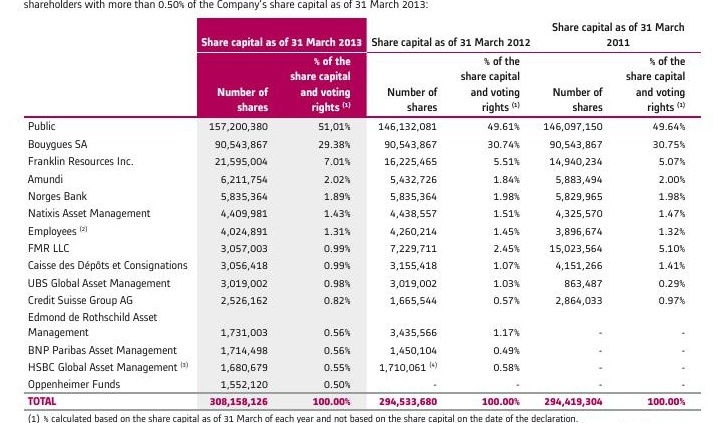table: (0, 0, 715, 423)
